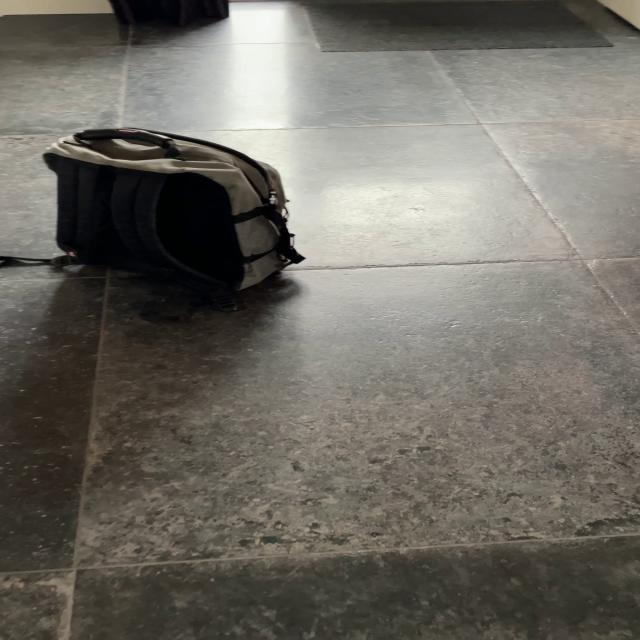backpack: (35, 119, 312, 317)
